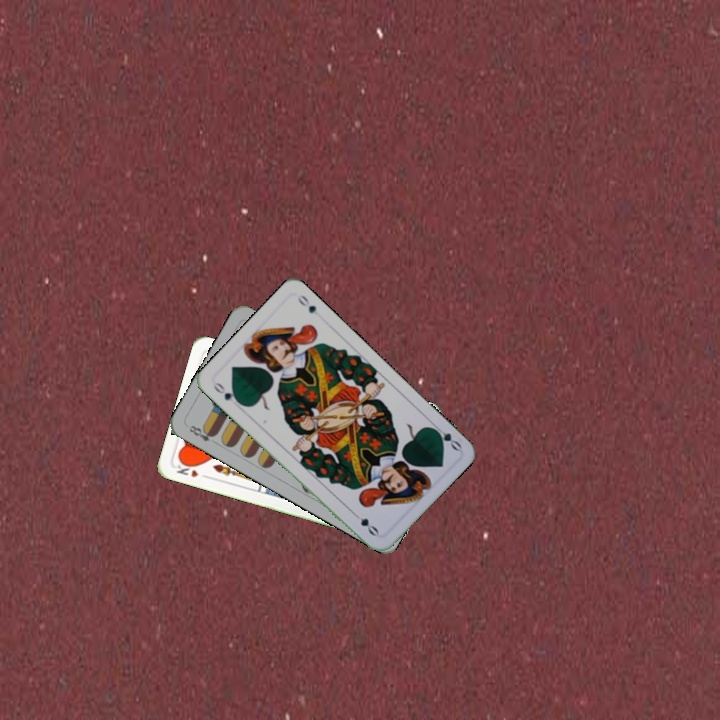E8: (185, 421, 220, 447)
GO: (428, 420, 464, 453), (209, 378, 244, 407)
HK: (172, 458, 211, 481)
